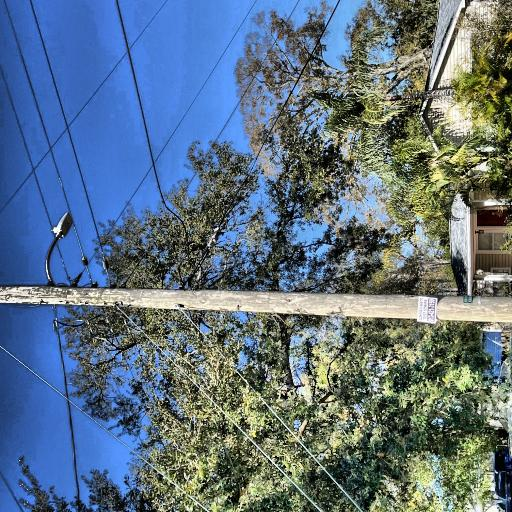pole: (54, 0, 110, 512)
street light: (96, 162, 166, 195)
